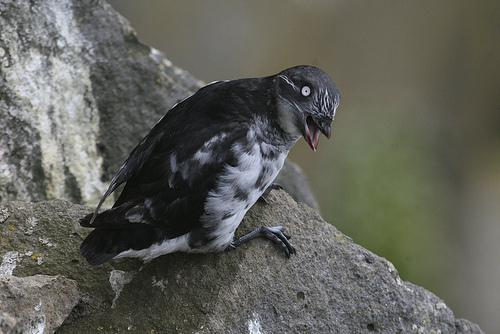006.Least_Auklet: (76, 64, 343, 265)
